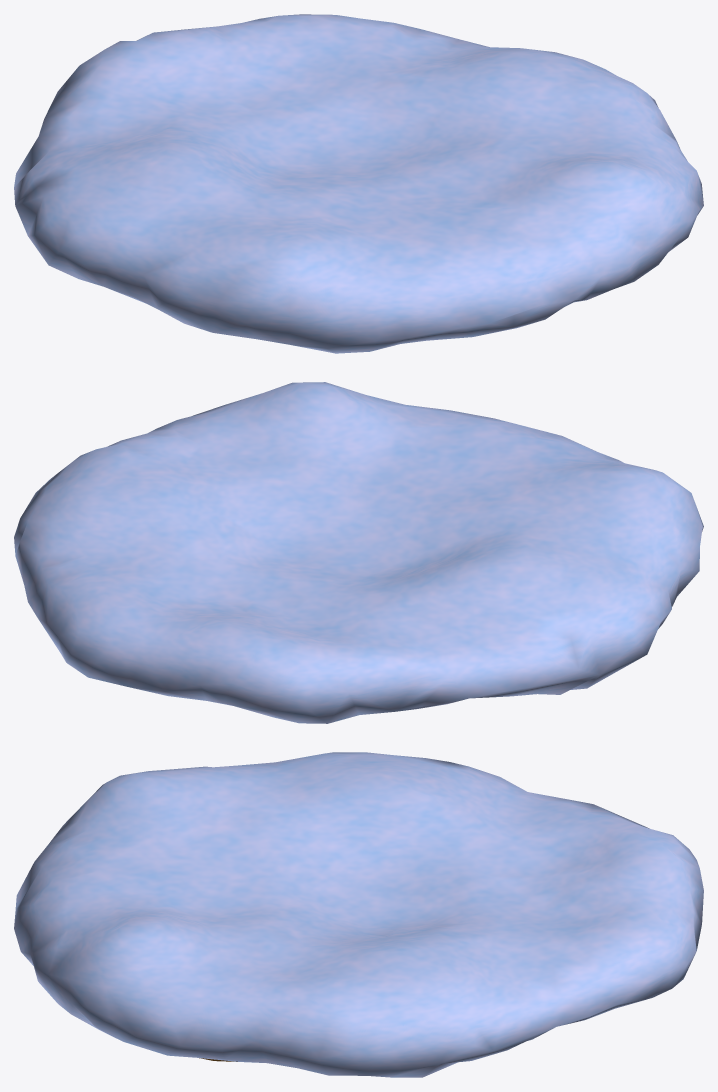
The model's file is ground.glb.
The picture shows the model from 3 angles, top to bottom: view 1: azimuth 30°, elevation 25°; view 2: azimuth 150°, elevation 25°; view 3: azimuth 270°, elevation 25°; orthographic projection.
Visible parts, largest first — view 1: ground; view 2: ground; view 3: ground.
Part boxes in pixels (bbox=[...]): ground: bbox=[14, 14, 703, 353]; ground: bbox=[14, 382, 703, 723]; ground: bbox=[14, 752, 703, 1077].
Size of the model in its own units: 16.74 by 3.65 by 16.71.
Materials: 2 (1 with a texture image).
